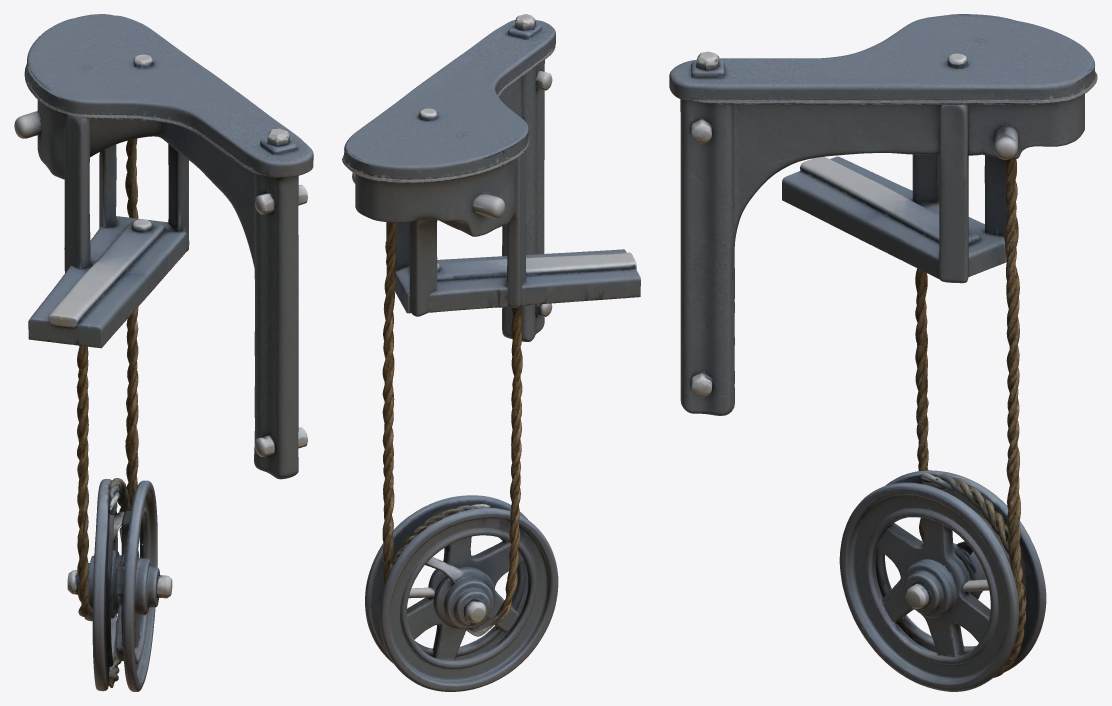
File: pulley.glb
3 renders of one model, left to right at view 1: azimuth 30°, elevation 25°; view 2: azimuth 150°, elevation 25°; view 3: azimuth 270°, elevation 25°, orthographic. The views are drawn at different scales.
Parts seen in each view (by area): view 1: tripo_node_d6c1769b-f73d-4ee4-bc5b-e779c8cf0b4a; view 2: tripo_node_d6c1769b-f73d-4ee4-bc5b-e779c8cf0b4a; view 3: tripo_node_d6c1769b-f73d-4ee4-bc5b-e779c8cf0b4a.
Part boxes in pixels (x1=…): tripo_node_d6c1769b-f73d-4ee4-bc5b-e779c8cf0b4a: x1=14, y1=14, x2=313, y2=691; tripo_node_d6c1769b-f73d-4ee4-bc5b-e779c8cf0b4a: x1=342, y1=14, x2=640, y2=691; tripo_node_d6c1769b-f73d-4ee4-bc5b-e779c8cf0b4a: x1=669, y1=14, x2=1097, y2=691.
Size of the model in its own units: 0.3747 by 0.9788 by 0.5851.
1 material, 1 textured.
